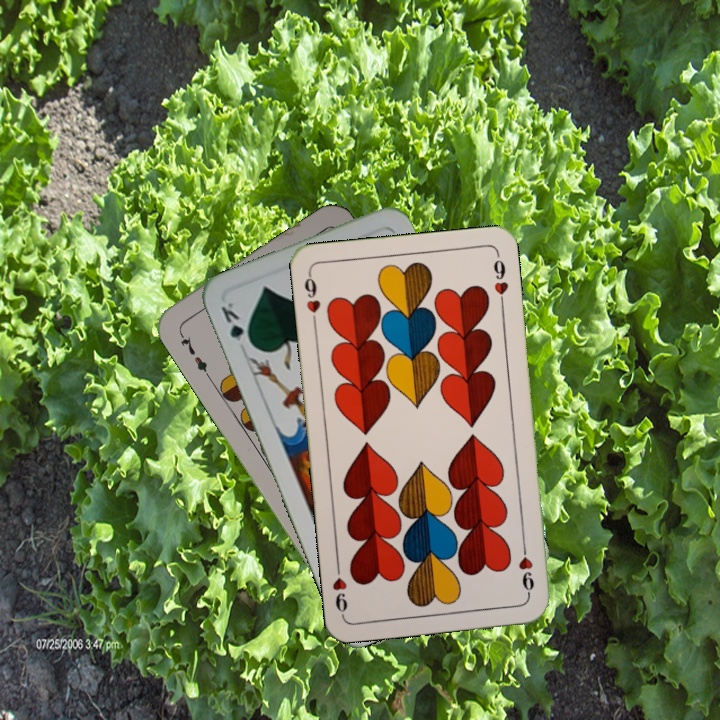E7: (175, 328, 213, 380)
GK: (216, 298, 255, 350)
H9: (300, 269, 323, 328), (514, 539, 537, 598)
